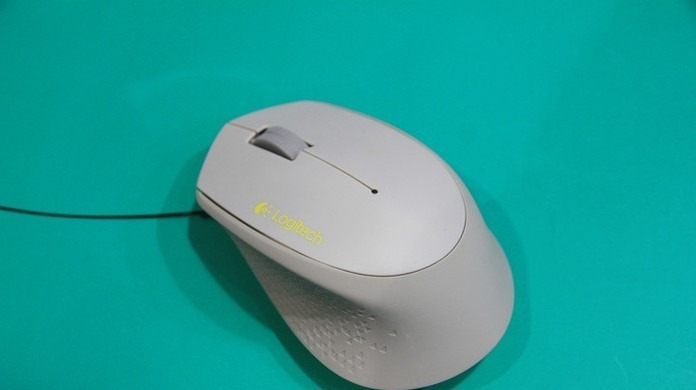mouse: (181, 86, 523, 383)
